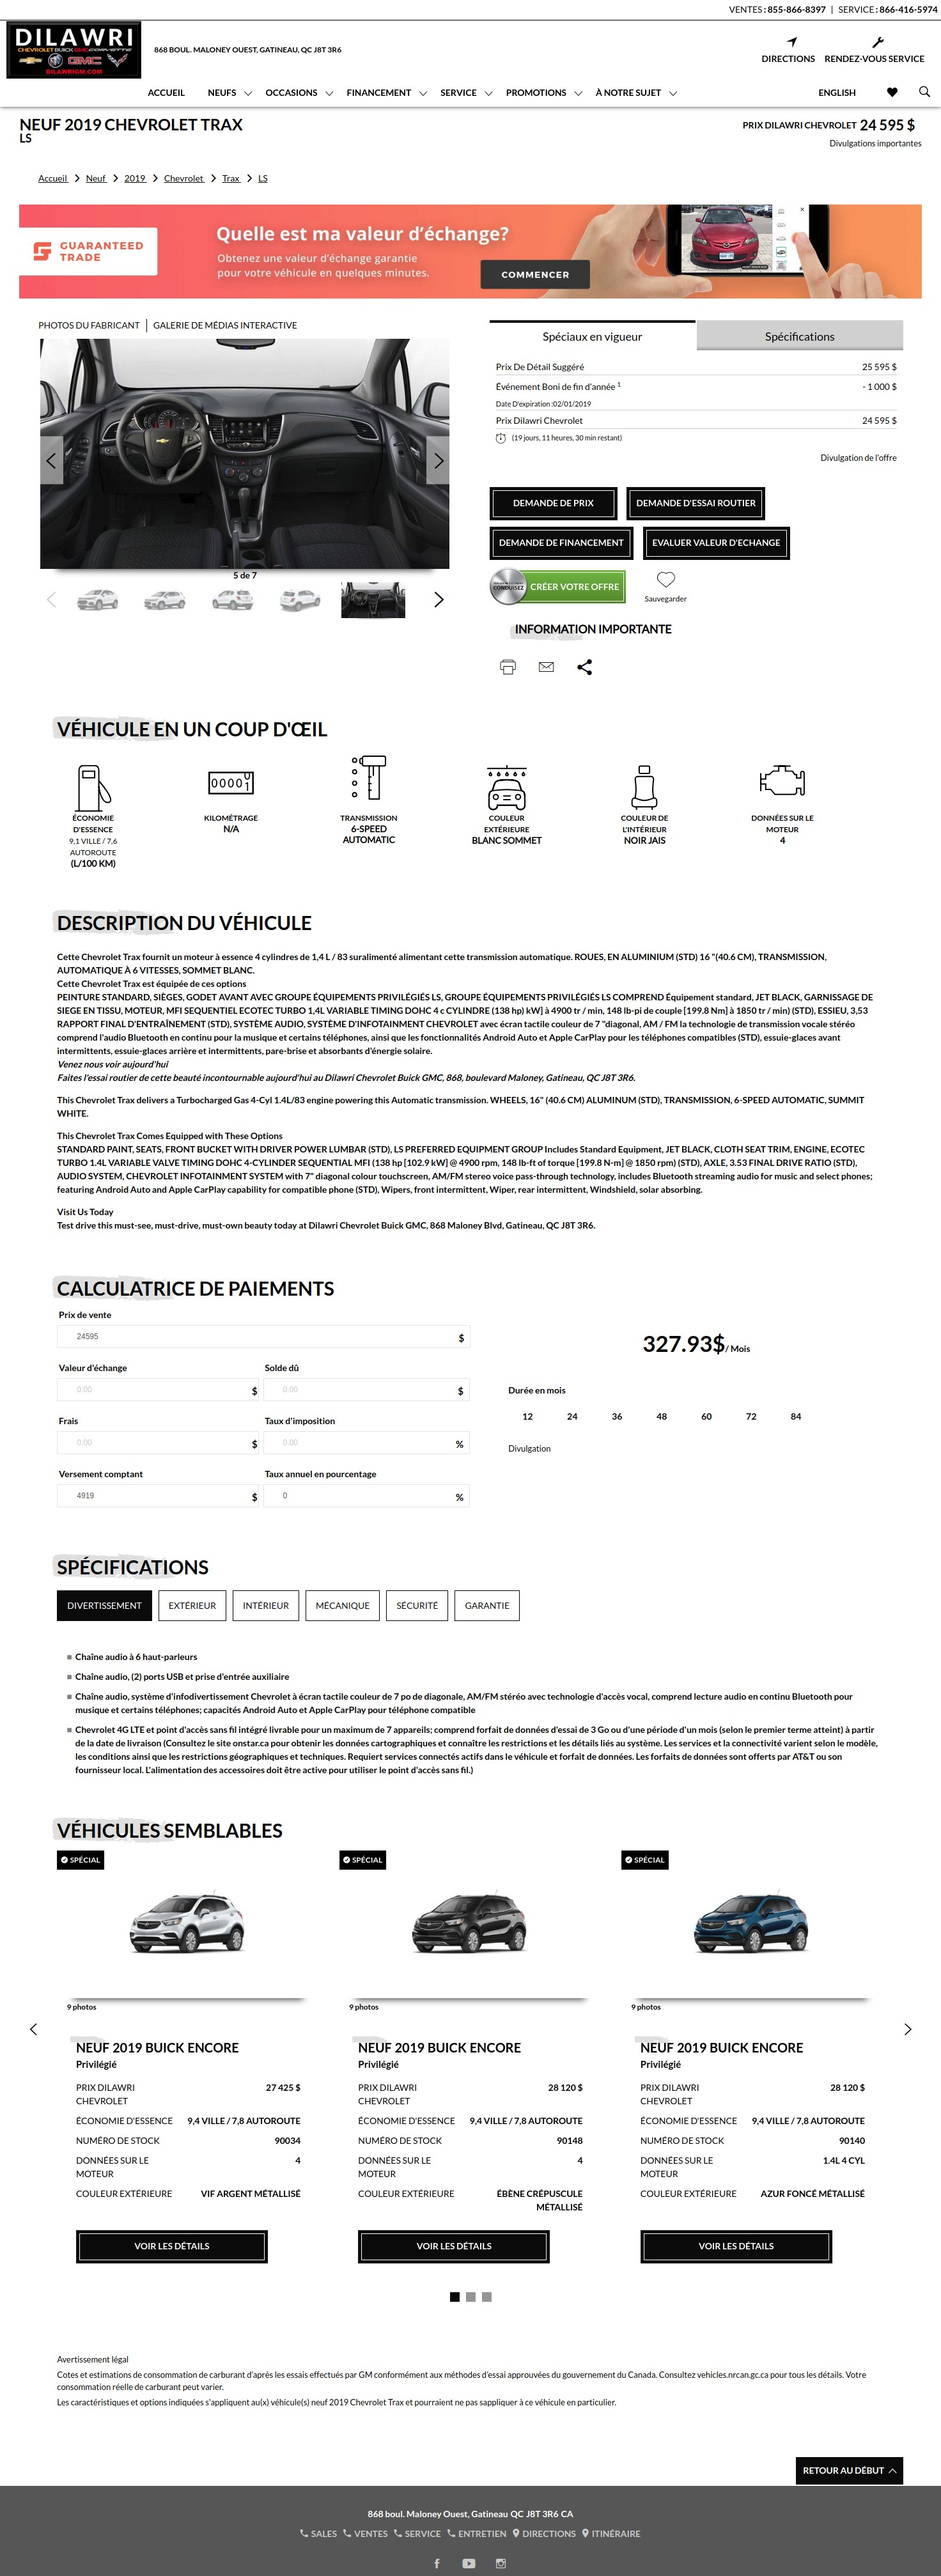car: (435, 591, 445, 608)
